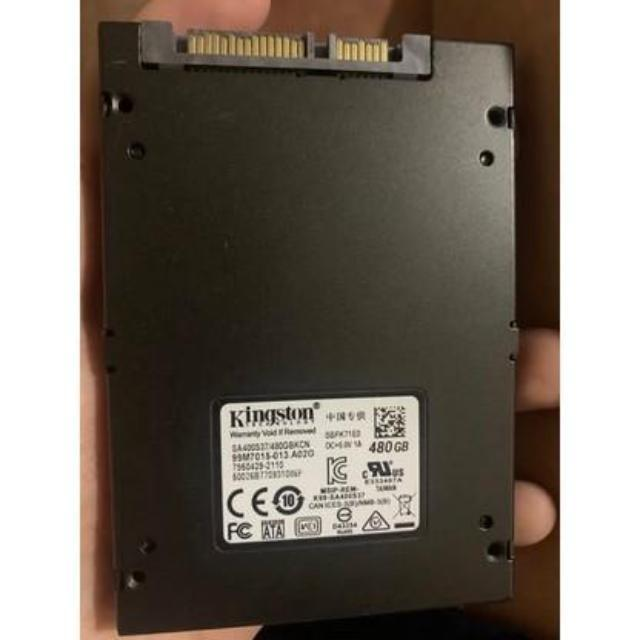DISK: (92, 14, 518, 636)
